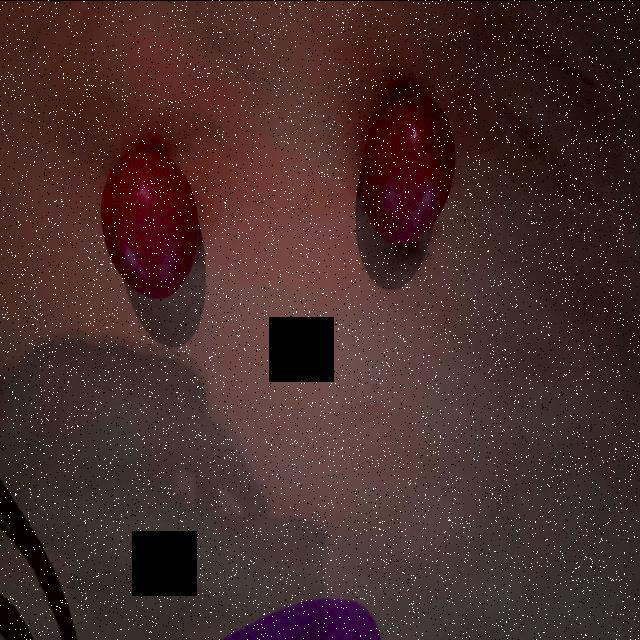egg: (98, 131, 210, 310), (355, 76, 460, 252)
